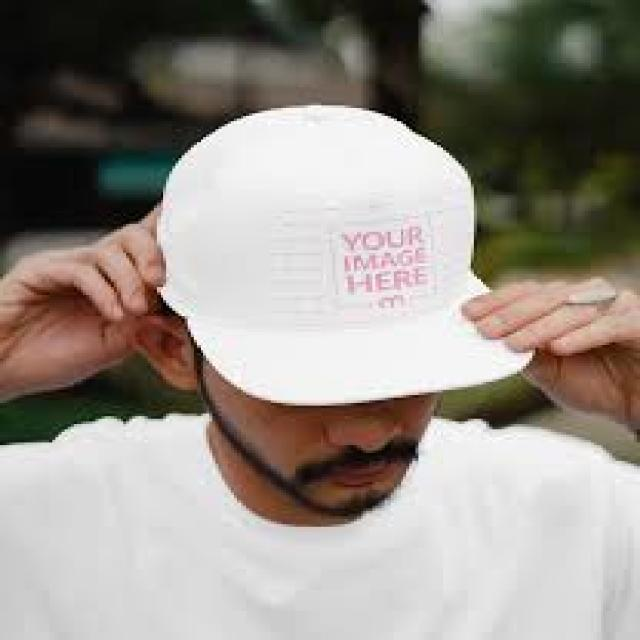3_gorra: (158, 106, 520, 406)
